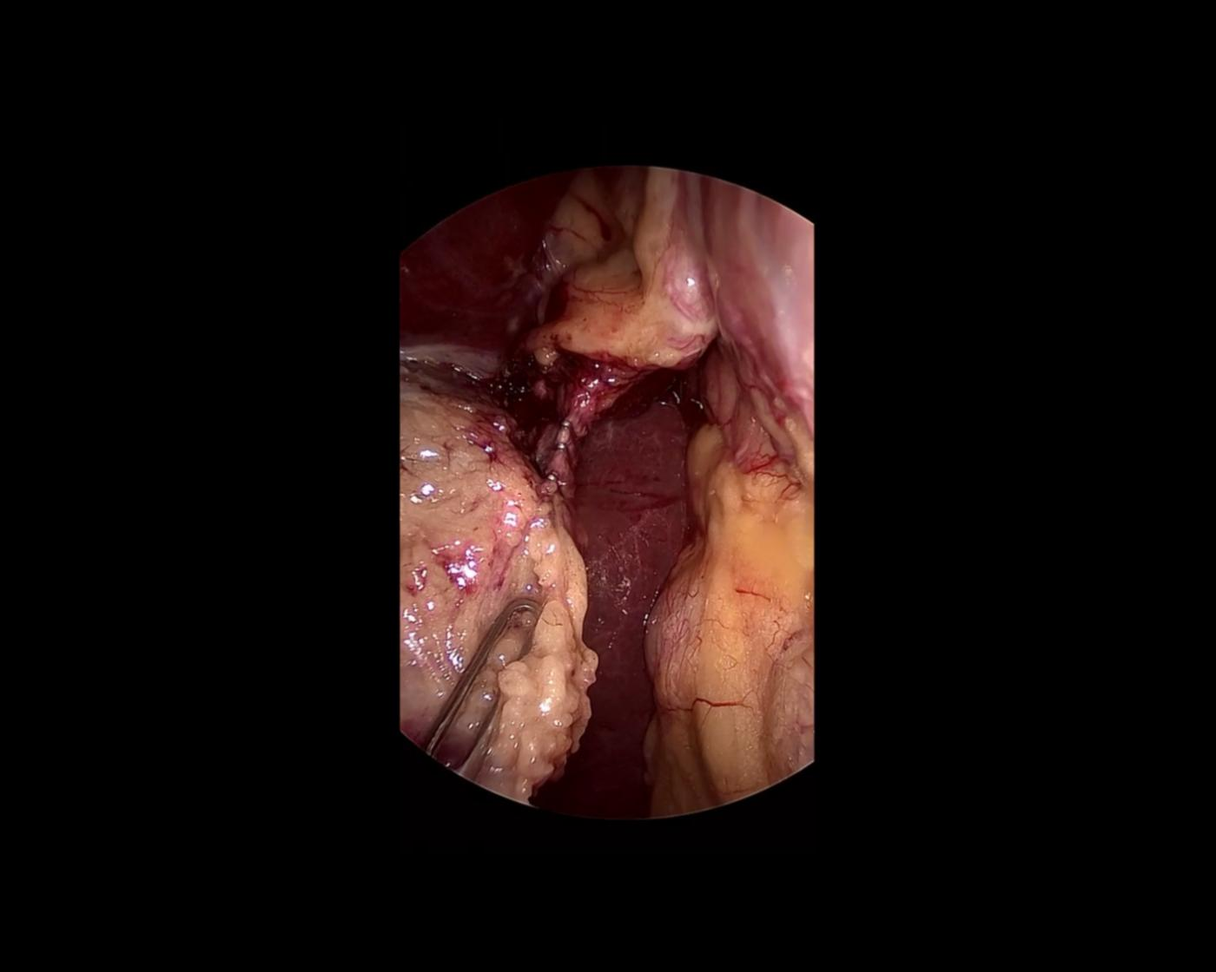Forceps: (419, 575, 559, 772)
Gallbladder: (398, 362, 600, 803)
Liver: (525, 362, 718, 820), (377, 136, 572, 387)
